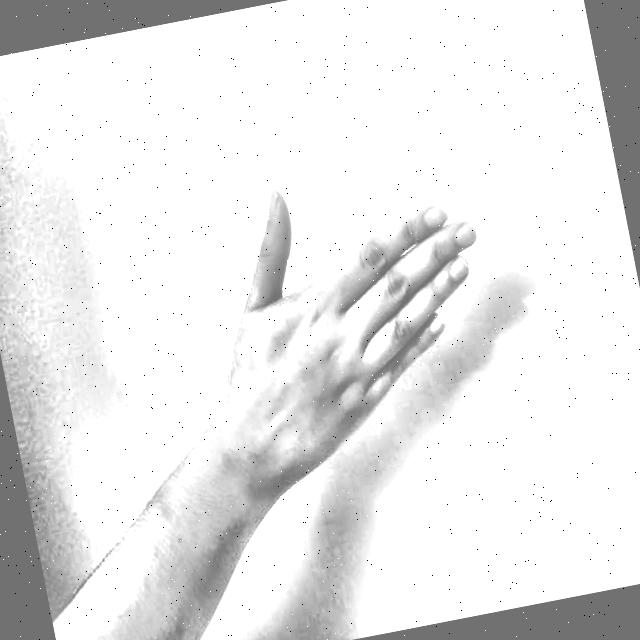Aa: (161, 101, 538, 535)
